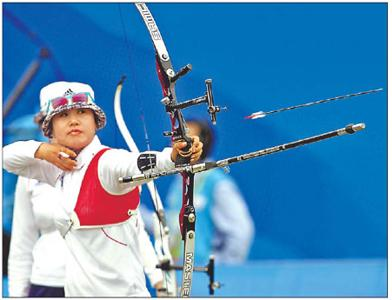person: (4, 82, 201, 297)
